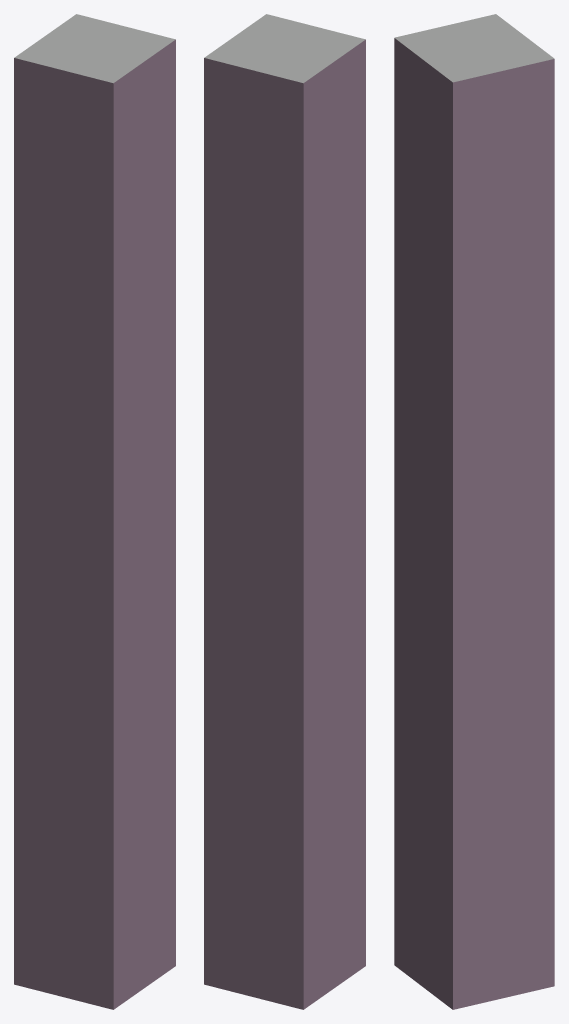
File: nyc-1034238-0.glb
The picture shows the model from 3 angles, left to right: view 1: azimuth 30°, elevation 25°; view 2: azimuth 210°, elevation 25°; view 3: azimuth 270°, elevation 25°; orthographic projection.
Parts seen in each view (by area): view 1: nyc-1034238-0; view 2: nyc-1034238-0; view 3: nyc-1034238-0.
Part boxes in pixels (x1,y1,x2,y2): nyc-1034238-0: (14, 14, 175, 1009); nyc-1034238-0: (204, 14, 365, 1009); nyc-1034238-0: (394, 14, 554, 1009).
Bounding box in the file's own units: 23.18 × 146 × 22.97.
